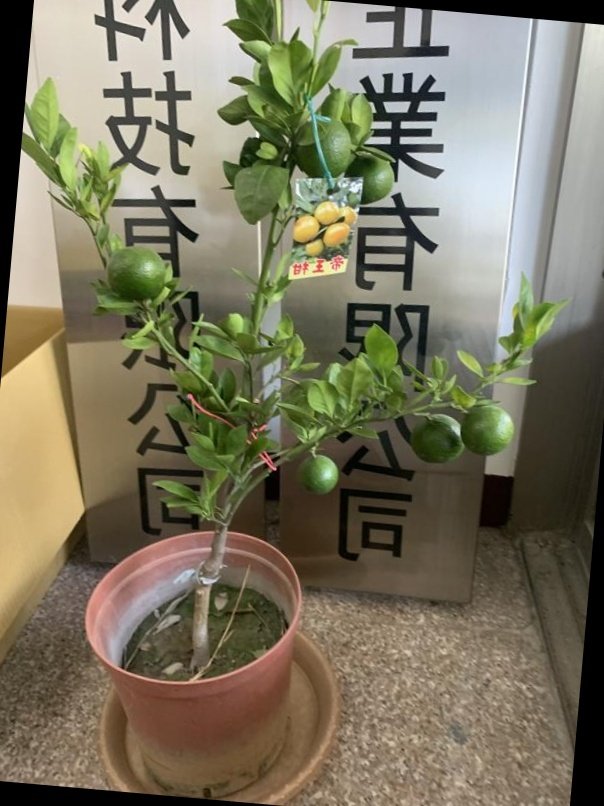Tangerine: (103, 243, 168, 304), (413, 414, 466, 466), (461, 404, 515, 455), (295, 458, 340, 498)
